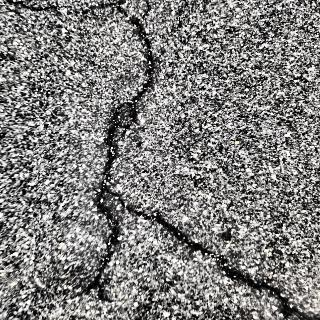crack: (134, 204, 316, 316), (92, 96, 140, 220), (110, 4, 166, 104), (80, 216, 122, 304)
